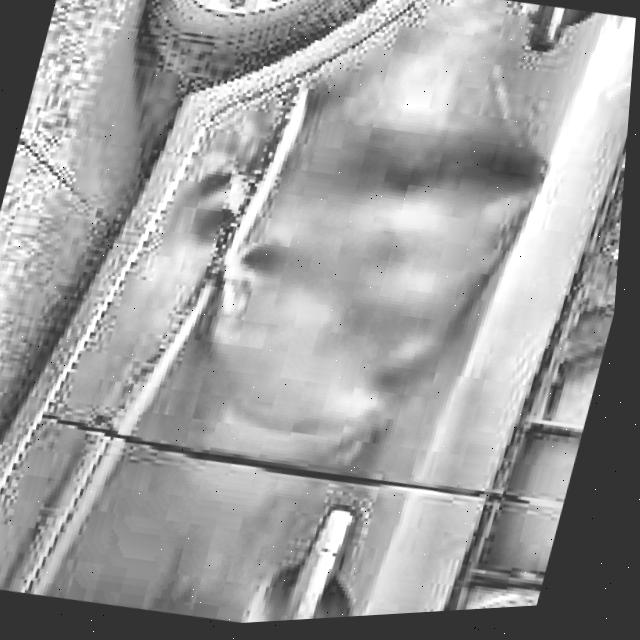door_dent: (146, 50, 561, 485)
